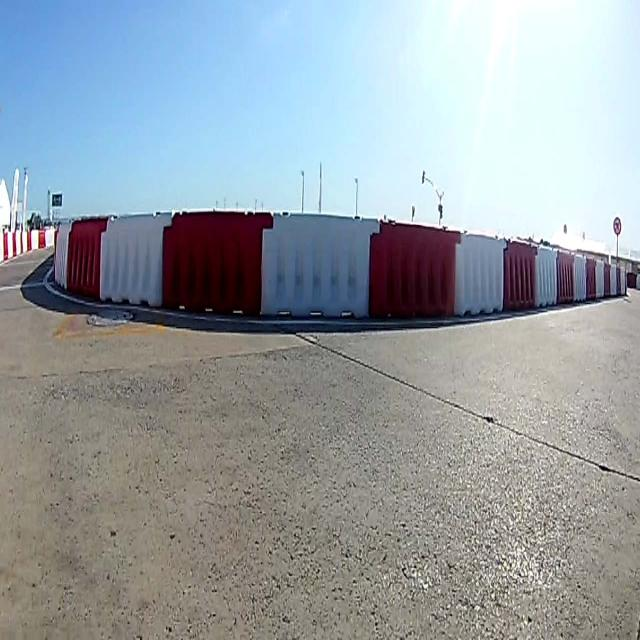soladonulmez: (612, 215, 622, 236)
